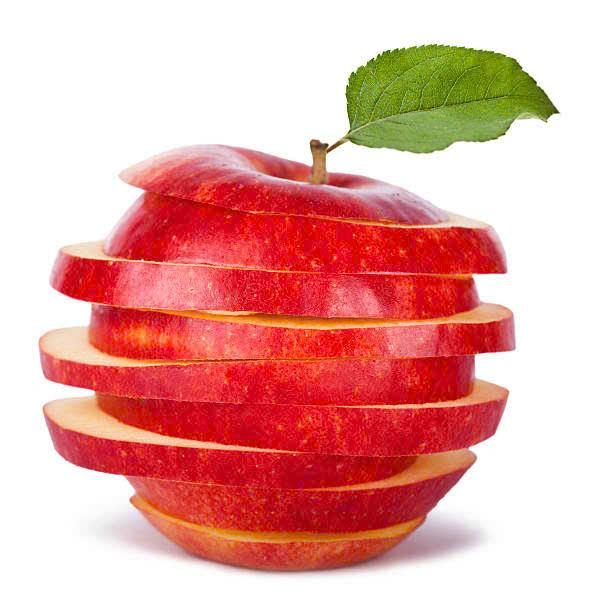apple: (70, 109, 533, 586)
